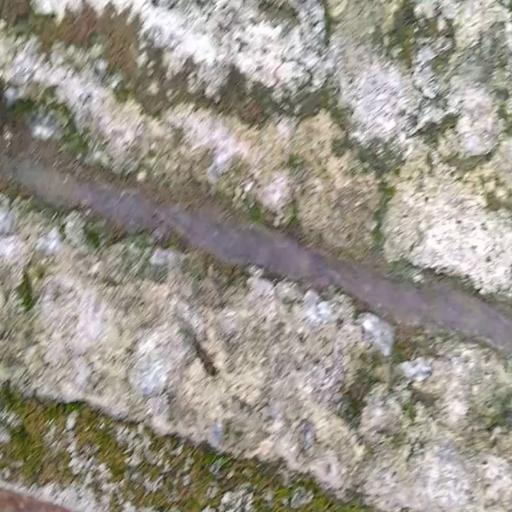spalling: (7, 95, 512, 367)
